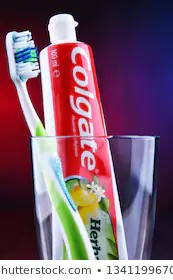toothbrush: (5, 1, 51, 222)
